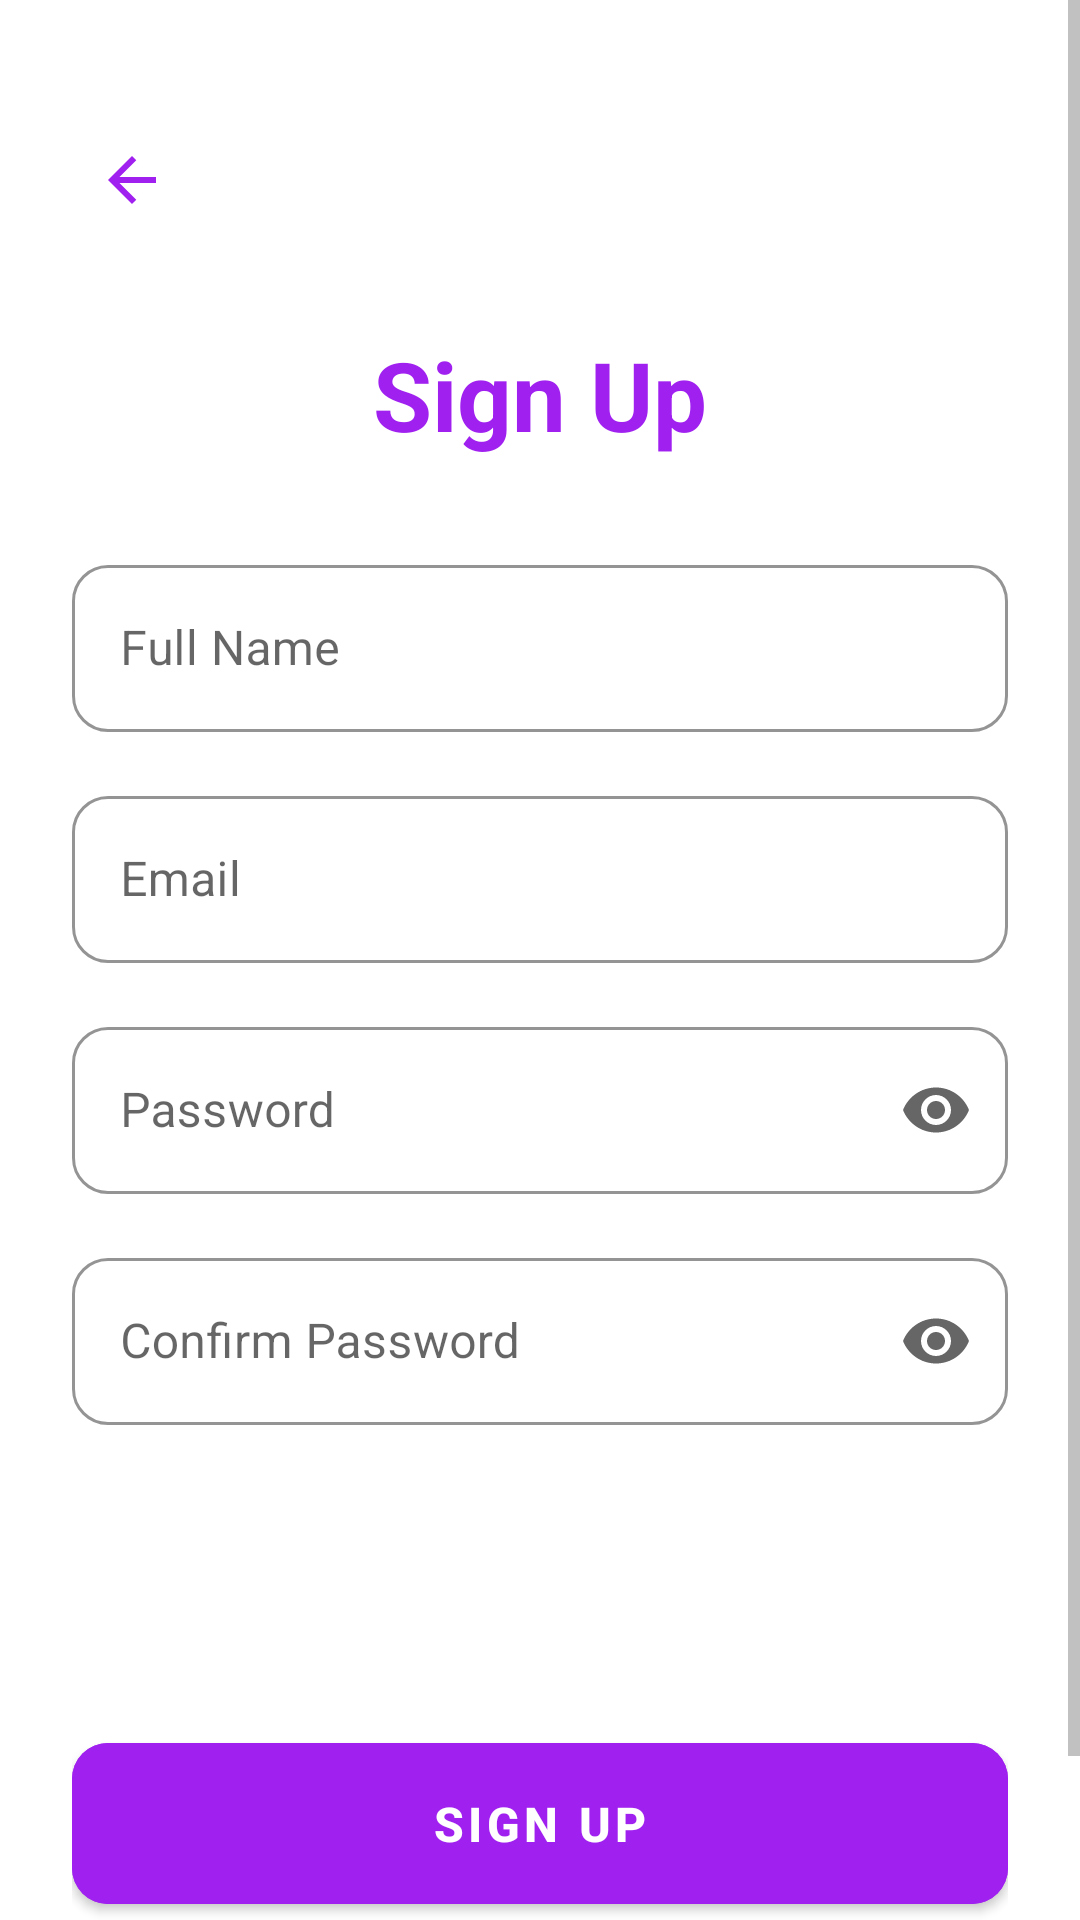

Icon bounding boxes for this 1080w x 1920h phone screenshot, format (x1, y1, x2, y2):
back arrow: (108, 156, 156, 204)
